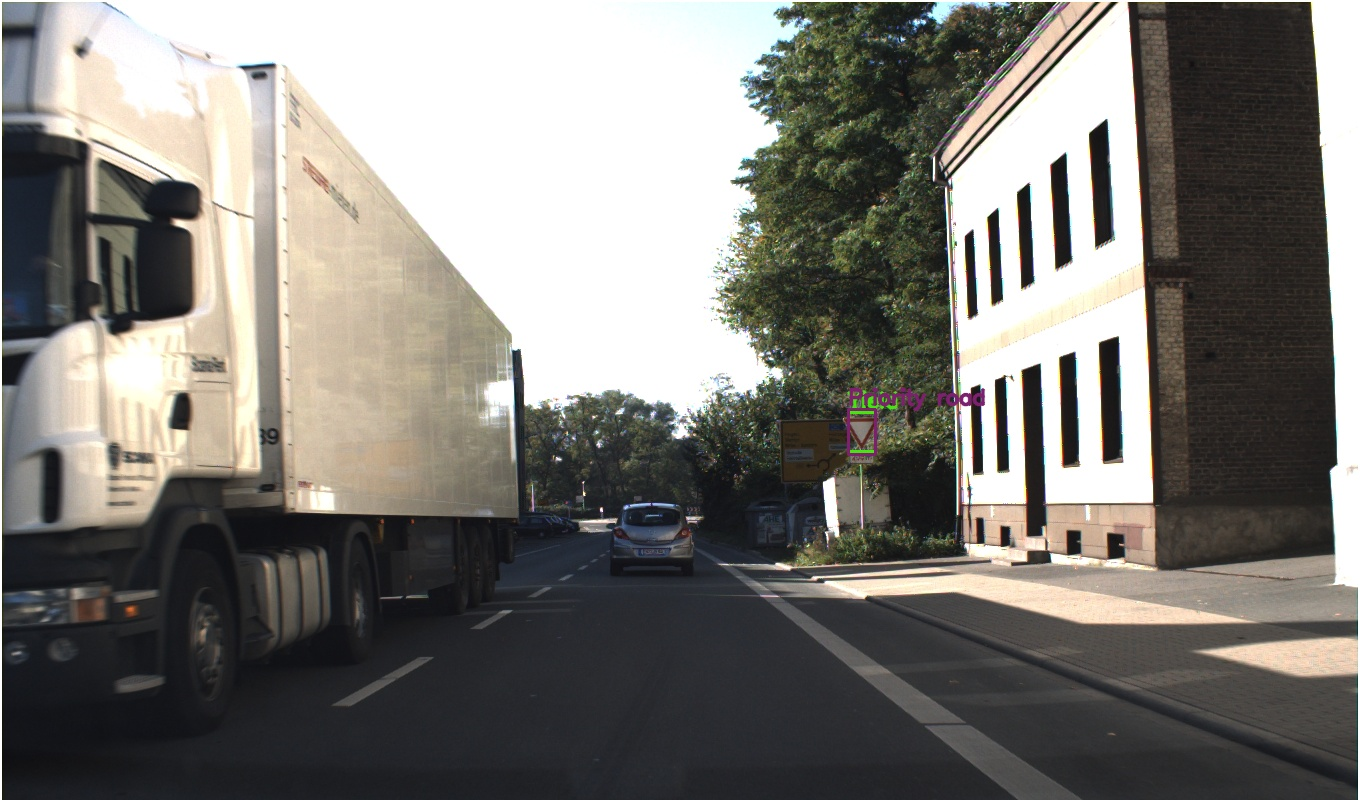Priority road: (838, 366, 896, 422)
Speed limit (50km/h): (845, 423, 888, 465)
